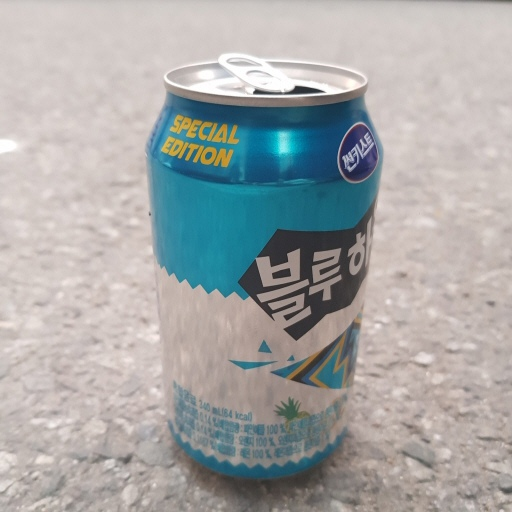Metal_0: (141, 50, 385, 485)
